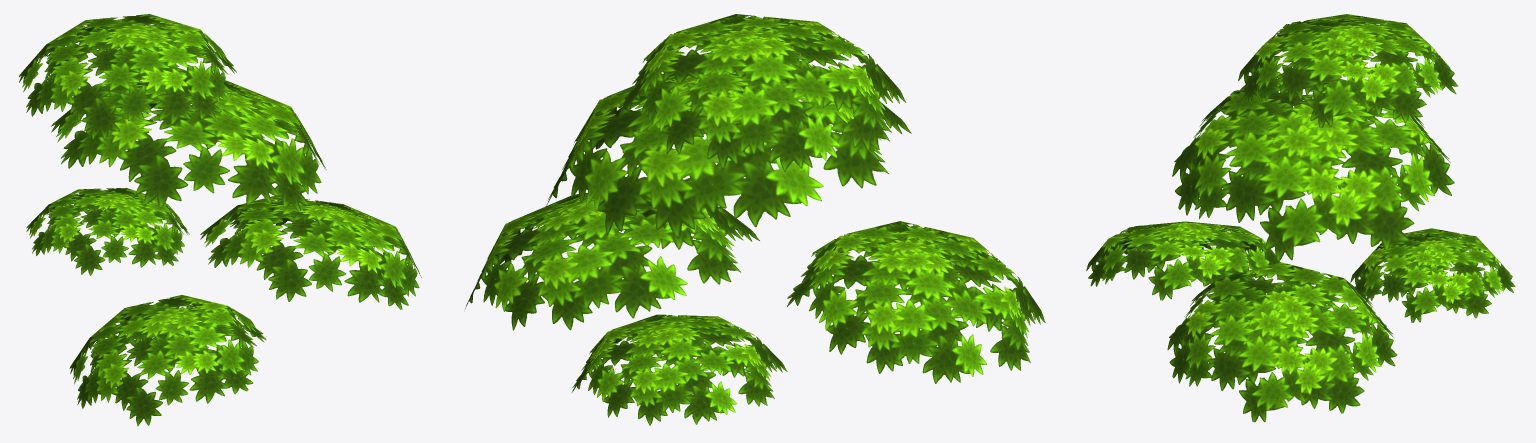
File: tree_leaf.fbx
3 views of the same model, side by side, from view 1: azimuth 30°, elevation 25°; view 2: azimuth 150°, elevation 25°; view 3: azimuth 270°, elevation 25° (orthographic). The views are drawn at different scales.
Parts seen in each view (by area): view 1: Line045; view 2: Line045; view 3: Line045.
Part boxes in pixels (x1,y1,x2,y2): Line045: (19,14,421,425); Line045: (465,14,1045,425); Line045: (1086,14,1515,422).
Bounding box in the file's own units: 10304 × 7290 × 10228.
